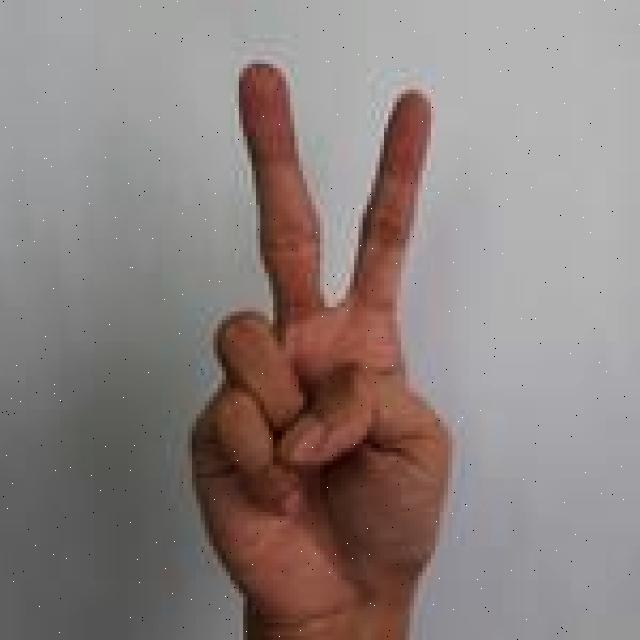V: (169, 52, 462, 640)
